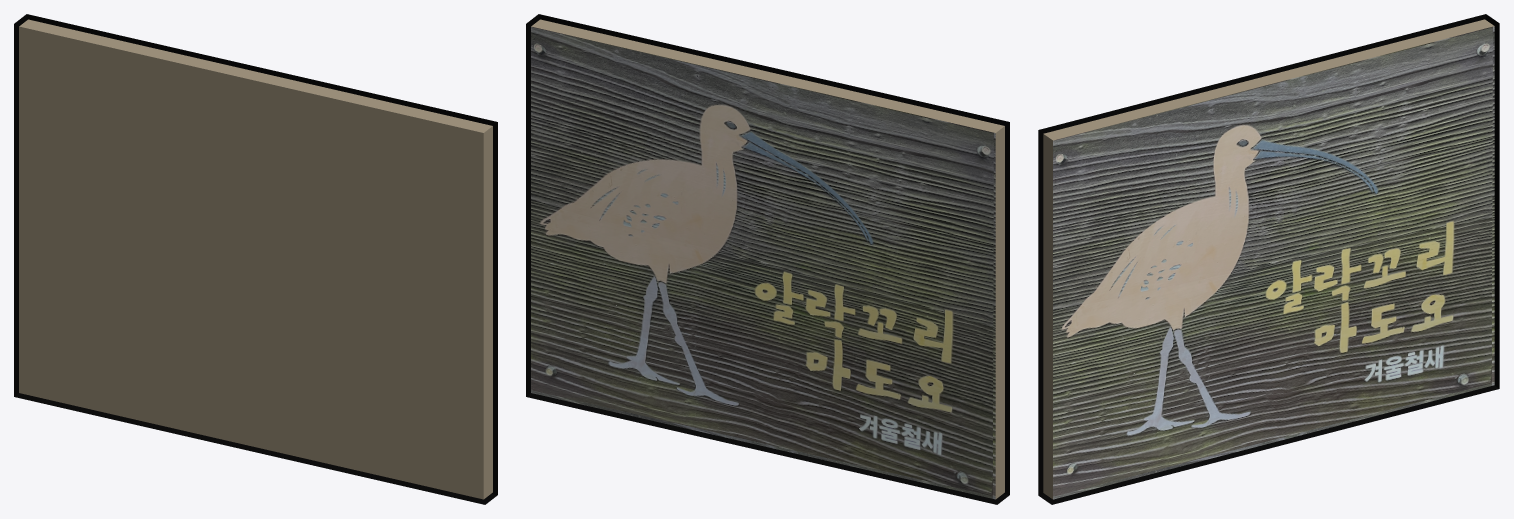
The model's file is allak.glb.
The picture shows the model from 3 angles, left to right: view 1: azimuth 30°, elevation 25°; view 2: azimuth 210°, elevation 25°; view 3: azimuth 270°, elevation 25°; orthographic projection. The views are drawn at different scales.
Parts seen in each view (by area): view 1: Cube.014; view 2: Cube.014; view 3: Cube.014.
Boxes of the visible parts, left/top/right/bottom form: Cube.014: left=14, top=14, right=497, bottom=504; Cube.014: left=526, top=14, right=1009, bottom=504; Cube.014: left=1038, top=14, right=1499, bottom=504.
Size of the model in its own units: 0.485 by 0.6596 by 0.7542.
3 materials, 1 textured.
